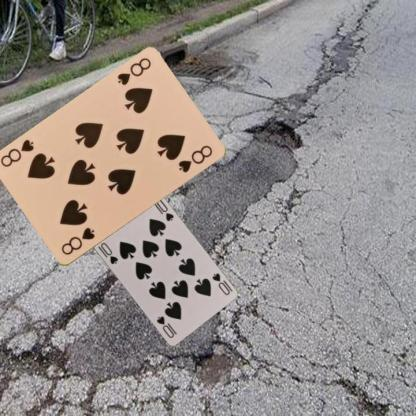10s: (95, 240, 119, 265), (209, 270, 231, 296)
8s: (58, 225, 96, 257), (115, 56, 152, 88)
